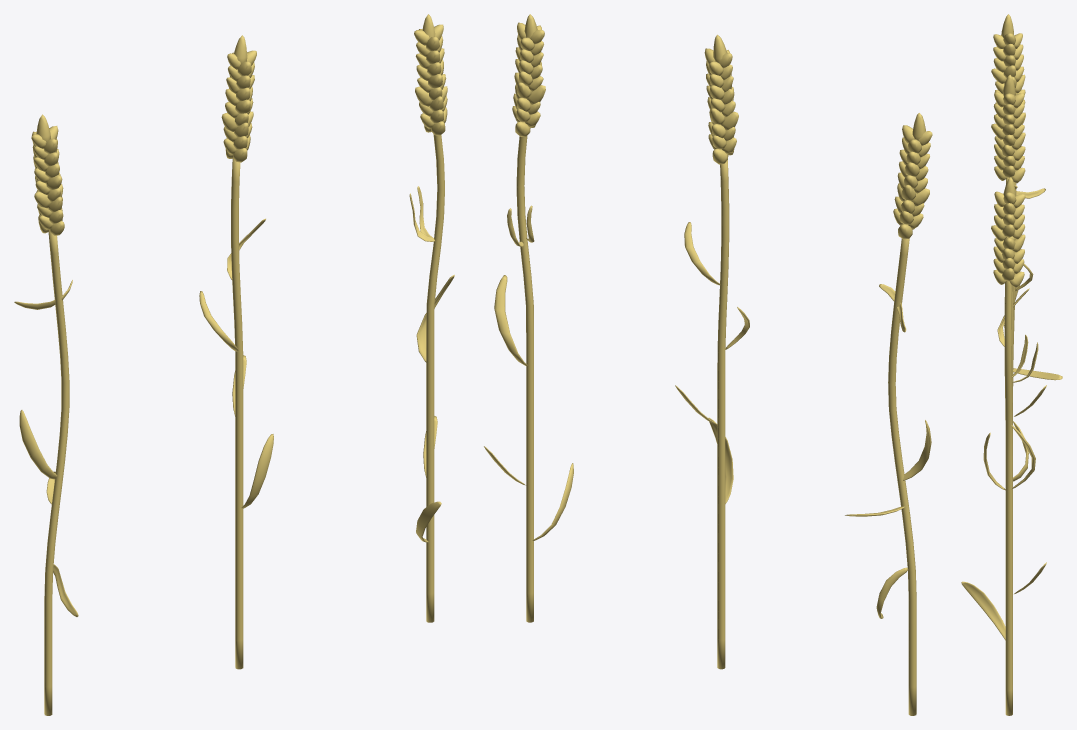
Rendered from wheat.fbx.
3 renders of one model, left to right at view 1: azimuth 30°, elevation 25°; view 2: azimuth 150°, elevation 25°; view 3: azimuth 270°, elevation 25°, orthographic. The views are drawn at different scales.
Parts seen in each view (by area): view 1: wheat, wheat.002, wheat.001; view 2: wheat, wheat.001, wheat.002; view 3: wheat.001, wheat, wheat.002.
Part boxes in pixels (x1,y1,x2,y2): wheat: [199, 35, 273, 669]; wheat.002: [14, 114, 78, 715]; wheat.001: [409, 14, 454, 622]; wheat: [675, 34, 749, 669]; wheat.001: [484, 14, 573, 622]; wheat.002: [845, 113, 932, 715]; wheat.001: [961, 177, 1046, 715]; wheat: [983, 75, 1046, 490]; wheat.002: [991, 14, 1062, 481].
Bounding box in the file's own units: 226 × 316 × 51.94.
